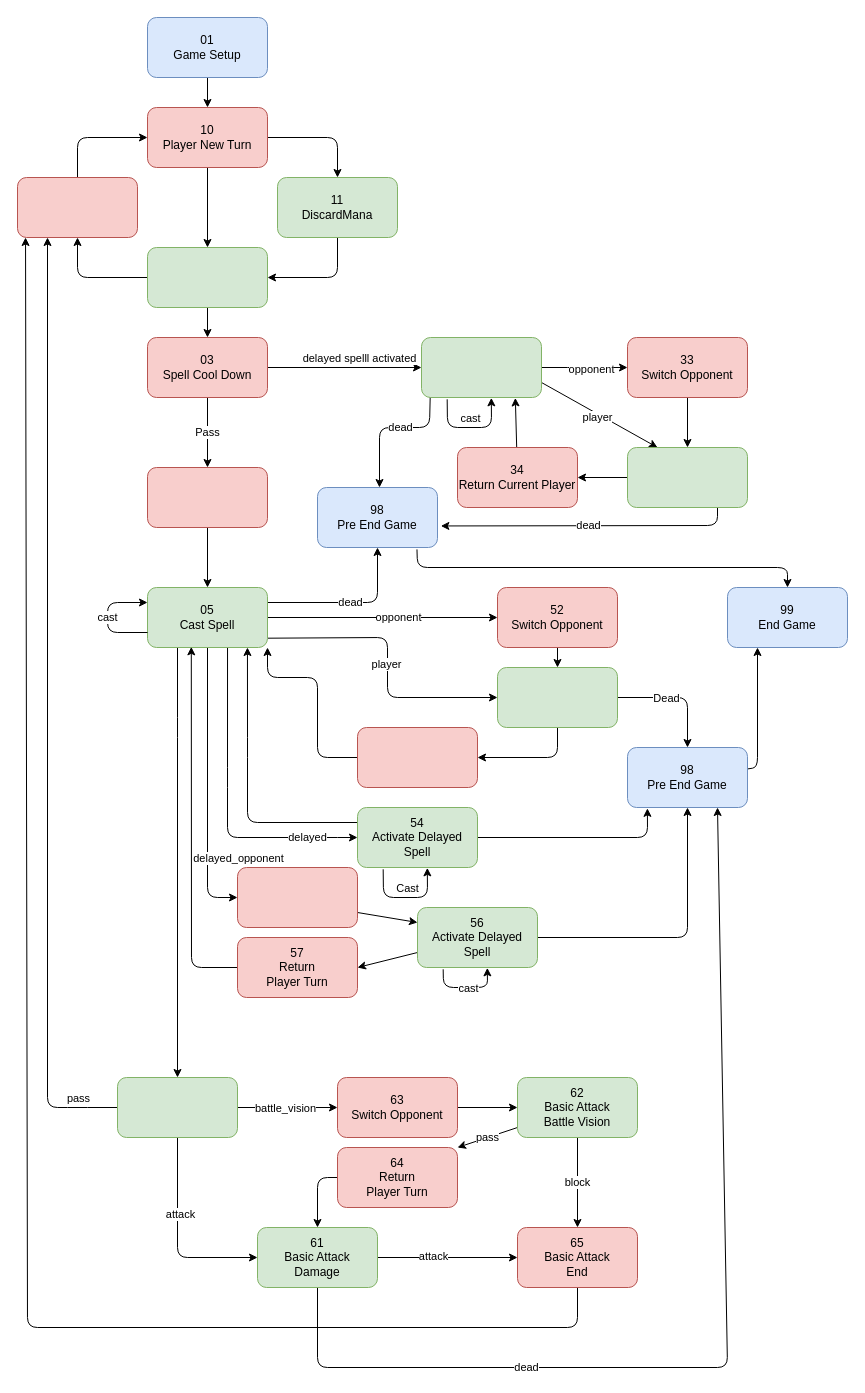
Some shapes in this 865 by 1393 pixel diagram are drawn without their labels. The centre of each missing label's shape, as x and y in pixels:
02 Choose New Spell: [207,277]
04 Gain Mana: [207,497]
06 Basic Attack: [177,1107]
07 Next Player: [77,207]
31 Activate Delayed Spell: [481,367]
32 Interaction: [687,477]
51 Interaction: [557,697]
53 Return Player Turn: [417,757]
55 Switch Opponent: [297,897]
